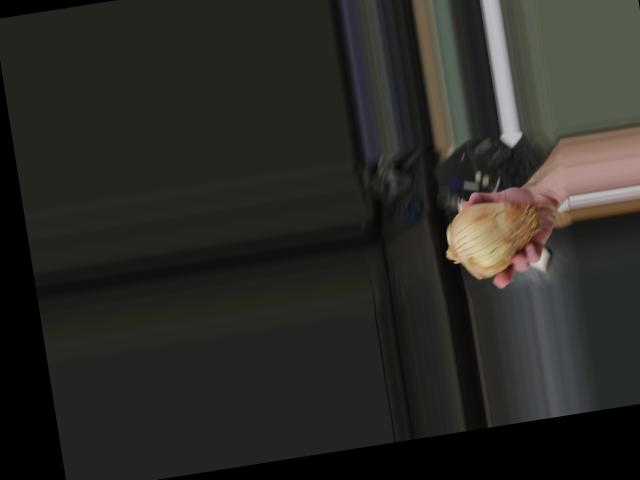onion: (440, 194, 542, 282)
